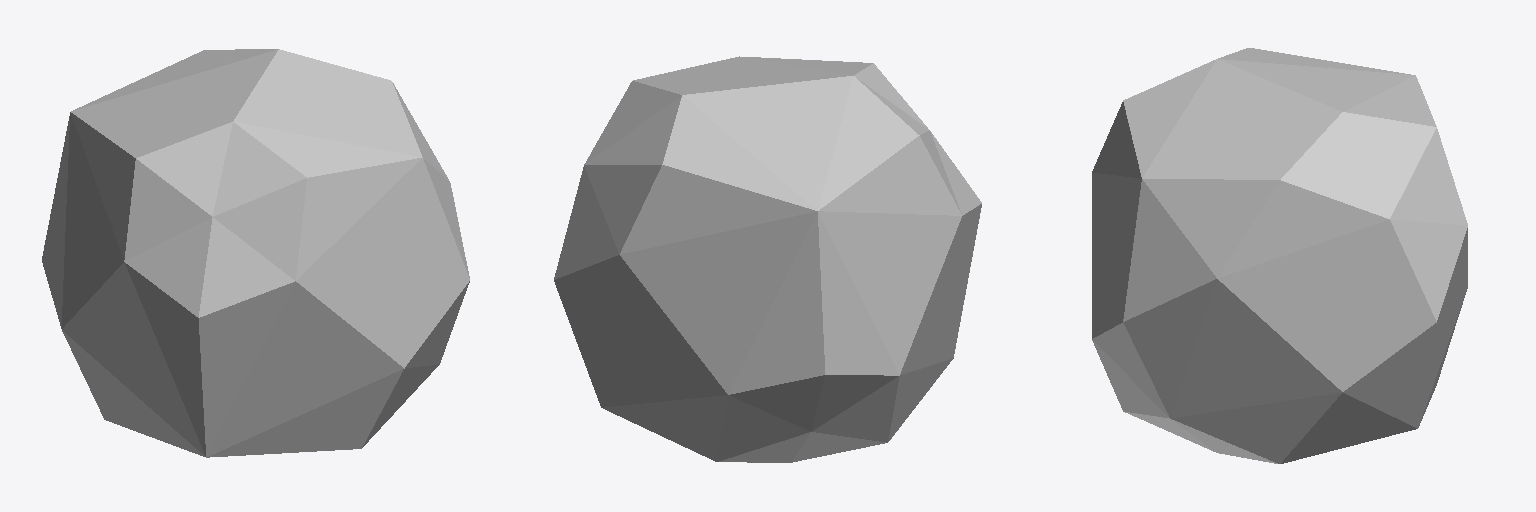
Rendered from rock.obj.
3 renders of one model, left to right at view 1: azimuth 30°, elevation 25°; view 2: azimuth 150°, elevation 25°; view 3: azimuth 270°, elevation 25°, orthographic.
Parts seen in each view (by area): view 1: Mesh_Cube; view 2: Mesh_Cube; view 3: Mesh_Cube.
Part boxes in pixels (left/top/right/bottom): Mesh_Cube: left=42, top=49, right=469, bottom=457; Mesh_Cube: left=554, top=56, right=981, bottom=462; Mesh_Cube: left=1092, top=48, right=1467, bottom=463.
Bounding box in the file's own units: 2 × 2 × 2.